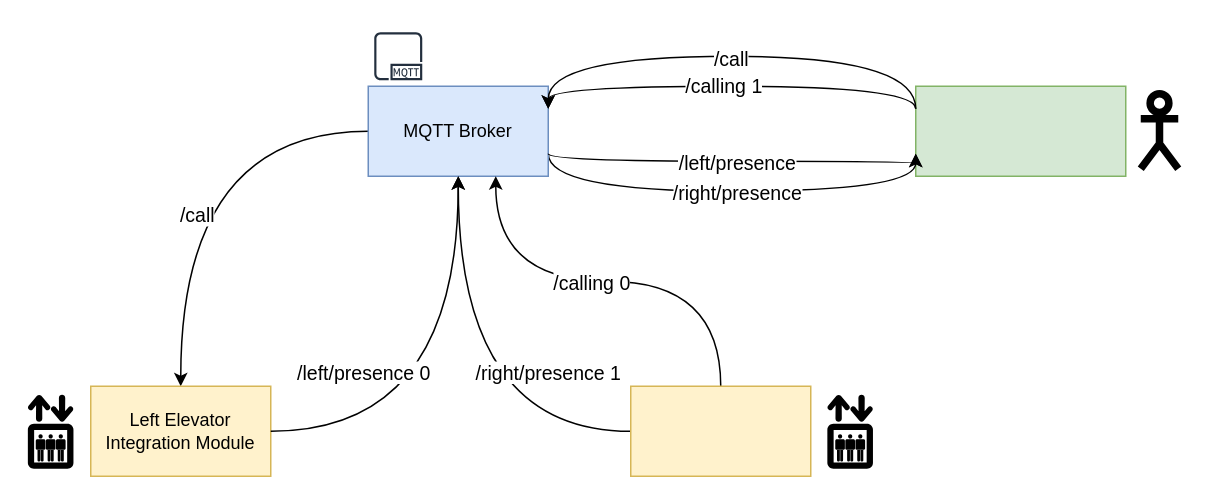
Image size: 1208x503. Some labels were removed from this diagram. The centre of each missing label's shape, as x and y in pixels:
"Right Elevator Integration Module" belongs at point 720,430.
"User Interface Module" belongs at point 1020,130.
